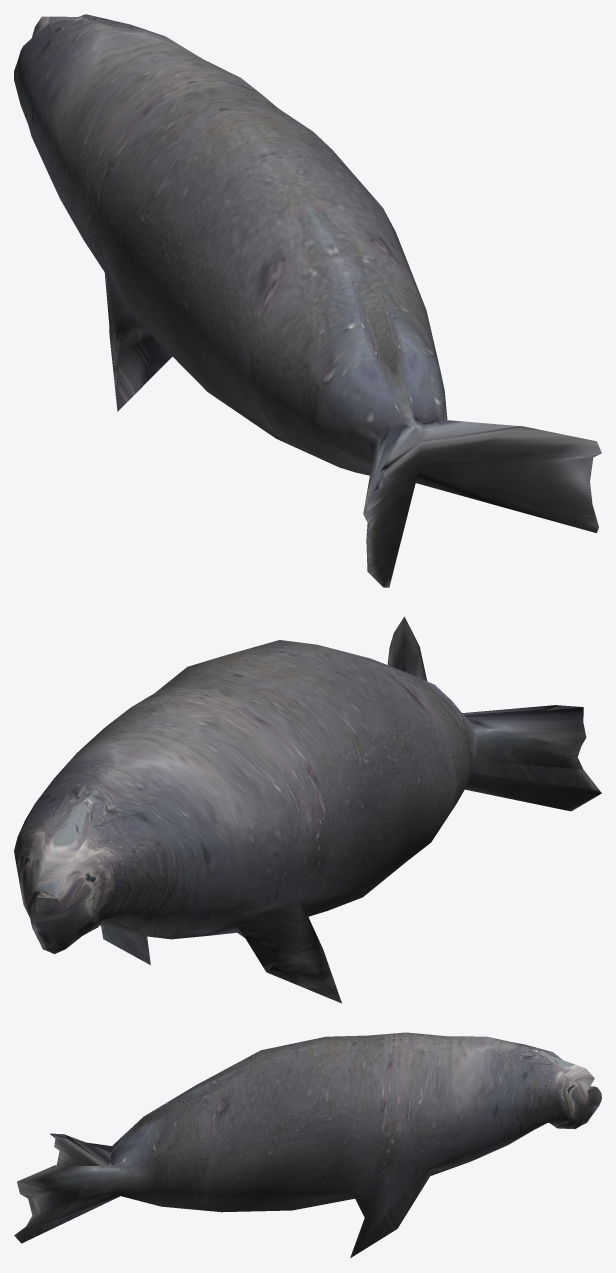
File: Seal_A.fbx
3 renders of one model, top to bottom at view 1: azimuth 30°, elevation 25°; view 2: azimuth 150°, elevation 25°; view 3: azimuth 270°, elevation 25°, orthographic. The views are drawn at different scales.
Parts seen in each view (by area): view 1: pSphere4; view 2: pSphere4; view 3: pSphere4.
Part boxes in pixels (bbox=[...]): pSphere4: bbox=[14, 14, 601, 587]; pSphere4: bbox=[14, 616, 601, 1003]; pSphere4: bbox=[14, 1032, 601, 1257].
Bounding box in the file's own units: 2.96 × 3.74 × 10.33.
Materials: 1 (1 with a texture image).
